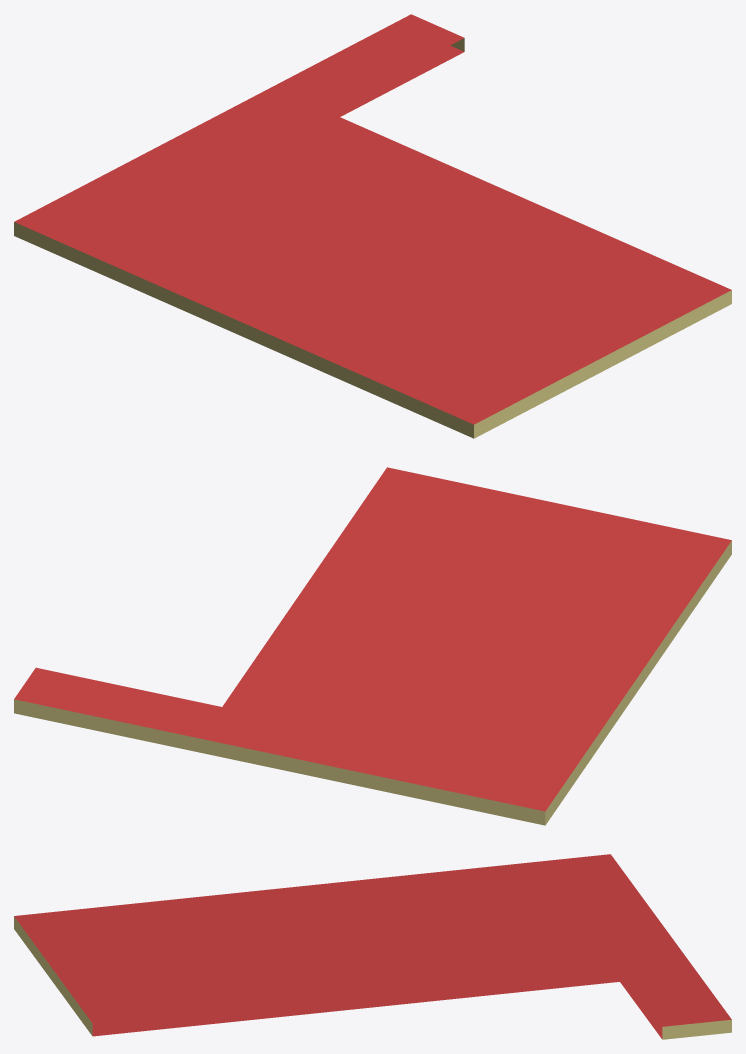
The picture shows the model from 3 angles, top to bottom: view 1: azimuth 30°, elevation 25°; view 2: azimuth 150°, elevation 25°; view 3: azimuth 270°, elevation 25°; orthographic projection. The views are drawn at different scales.
Bounding box in the file's own units: 3.57 × 5.01 × 0.433.
